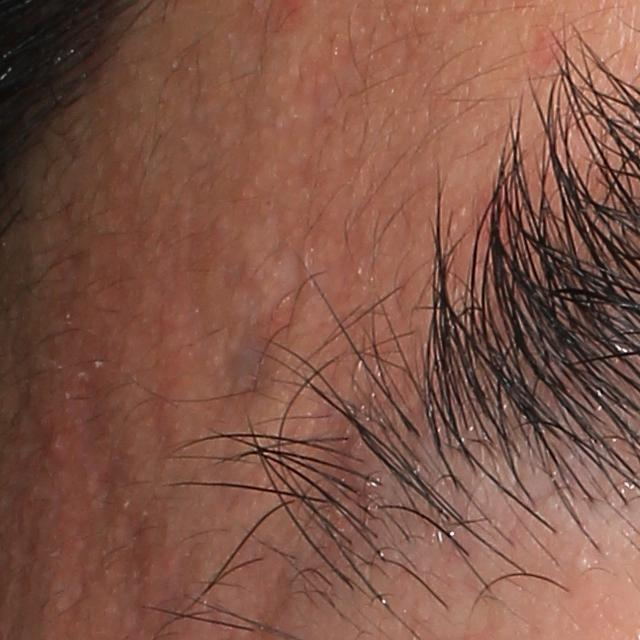atrophic_scar: (212, 318, 284, 420), (62, 355, 110, 483), (299, 51, 368, 135), (110, 504, 150, 599), (145, 378, 180, 480), (269, 238, 314, 312), (97, 448, 132, 540), (49, 568, 95, 626)
comedo: (565, 546, 592, 573)
papule: (37, 429, 74, 468)
